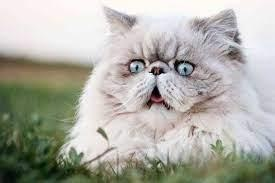apricot: (55, 4, 274, 177)
banana: (55, 4, 274, 177)
cat: (55, 4, 275, 177)
grapes: (55, 4, 274, 177)
melon: (55, 3, 274, 177)
